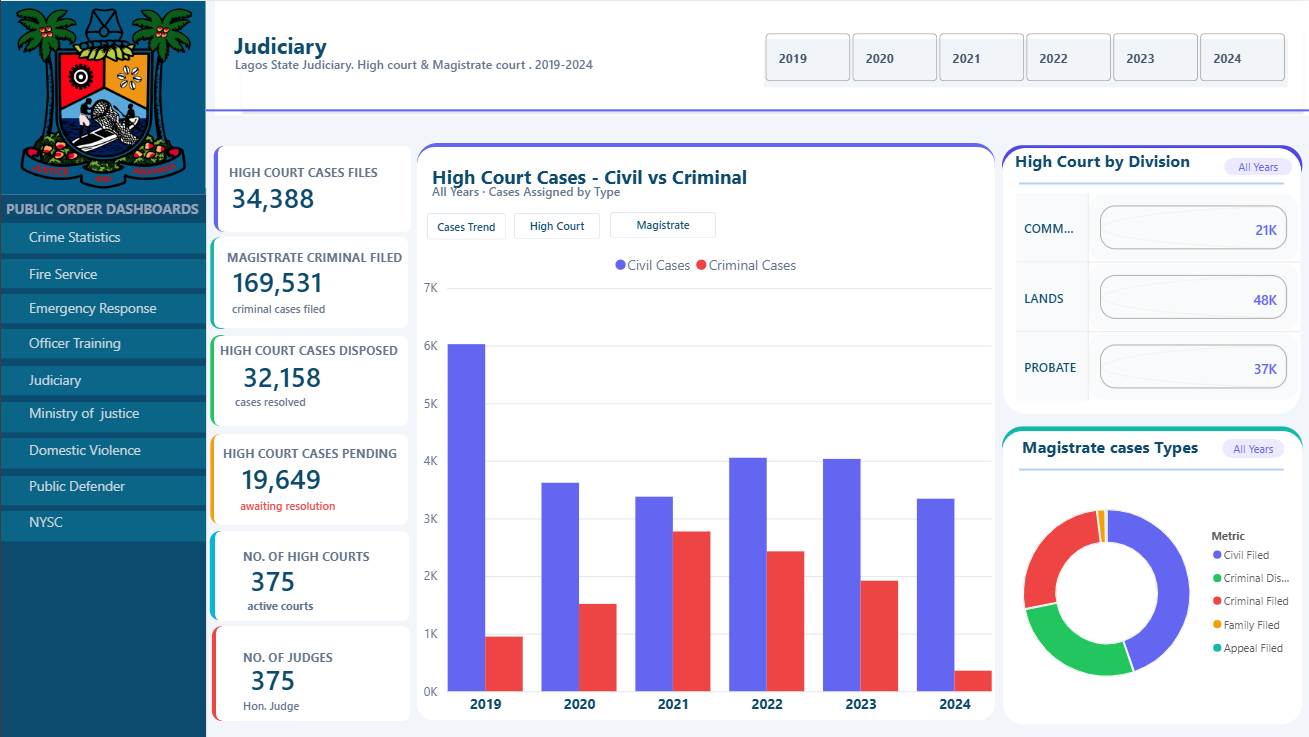

This screenshot's page, from the dashboard's own definition file:
{"tool":"powerbi","page":{"name":"Judiciary","canvas":[1280,720],"ordinal":4},"visuals":[{"type":"shape","box":[95,611.6,242.8,93],"z":0},{"type":"shape","box":[407.1,99.6,565.3,118.2],"z":1000},{"type":"shape","box":[0,182.7,200.6,537.3],"z":2000},{"type":"shape","box":[0,499.1,200.6,29.9],"z":3000},{"type":"shape","box":[0,464.5,200.6,28.7],"z":4000},{"type":"shape","box":[0,427.5,200.6,29.9],"z":5000},{"type":"shape","box":[0,391.6,200.6,29.9],"z":6000},{"type":"shape","box":[0,357,200.6,28.7],"z":7000},{"type":"shape","box":[0,321.2,200.6,28.7],"z":8000},{"type":"shape","box":[0,286.6,200.6,28.7],"z":9000},{"type":"shape","box":[0,251.9,200.6,28.7],"z":10000},{"type":"shape","box":[0,217.3,200.6,29.9],"z":11000},{"type":"shape","box":[94.2,518.6,240.6,87.4],"z":12000},{"type":"shape","box":[209.3,518.3,189.7,88],"z":13000},{"type":"textbox","box":[211.8,0,373,70.6],"z":14000},{"type":"shape","box":[94.2,423.3,241.7,88.5],"z":15000},{"type":"shape","box":[208.3,423.4,189.7,89],"z":16000},{"type":"shape","box":[93.9,326.6,241.5,89],"z":17000},{"type":"shape","box":[208.3,327.6,189.7,88],"z":18000},{"type":"shape","box":[93.9,230.8,241.5,90],"z":19000},{"type":"shape","box":[208.3,230.8,189.7,89],"z":20000},{"type":"shape","box":[97.6,141.8,240.6,84],"z":21000},{"type":"shape","box":[212.2,141.8,188.7,84.1],"z":22000},{"type":"shape","box":[979.3,398.3,293.9,76],"z":23000},{"type":"shape","box":[209.2,0,1071,112.2],"z":24000},{"type":"shape","box":[0,0,200,189.3],"z":25000},{"type":"shape","box":[740.6,31.4,524.3,59.3],"z":26000},{"type":"advancedSlicerVisual","fields":{"Values":["YearTable.Year"]},"box":[727.5,23.5,552.5,63.6],"z":27000},{"type":"shape","box":[978.8,420.5,294.3,287.5],"z":28000},{"type":"shape","box":[407.1,143.1,565.3,560.9],"z":29000},{"type":"shape","box":[979.1,111,293.7,99.1],"z":30000},{"type":"shape","box":[979.3,144.1,292.8,261],"z":31000},{"type":"textbox","box":[218.1,153.5,179.9,35.2],"z":32000},{"type":"card","fields":{"Values":["Judiciary_Hc_summary.HC Civil Cases Filed"]},"box":[218.5,166,95.5,53.7],"z":33000},{"type":"donutChart","fields":{"Category":["Judiciary_MC summary.Metric"],"Y":["Sum(Judiciary_MC summary.Value)"]},"box":[979.3,458.4,292.8,239.4],"z":35000},{"type":"shape","box":[995.2,415.3,258.7,85.1],"z":36000},{"type":"shape","box":[995.4,131,259.1,94.9],"z":37000},{"type":"textbox","box":[993.5,420.4,191.9,36.5],"z":38000},{"type":"textbox","box":[986.7,140.6,198.7,48.7],"z":39000},{"type":"textbox","box":[223.5,47.7,377.9,52.2],"z":40000},{"type":"textbox","box":[211.1,23.8,123.7,49.9],"z":46000},{"type":"textbox","box":[0,189.7,208.3,39.1],"z":47000},{"type":"textbox","box":[22.7,217.3,125.4,29.9],"z":48000},{"type":"textbox","box":[22.7,253.1,115.8,27.5],"z":49000},{"type":"textbox","box":[22.7,286.6,146.9,28.7],"z":50000},{"type":"textbox","box":[22.7,321.2,146.9,28.7],"z":51000},{"type":"textbox","box":[22.7,357,132.5,28.7],"z":52000},{"type":"textbox","box":[22.7,389.3,132.5,34.6],"z":53000},{"type":"textbox","box":[22.7,425.1,132.5,34.6],"z":54000},{"type":"textbox","box":[22.7,460.9,132.5,32.2],"z":55000},{"type":"textbox","box":[22.7,495.5,115.8,33.4],"z":56000},{"type":"textbox","box":[216.1,236.6,183.8,30.3],"z":57000},{"type":"card","fields":{"Values":["Judiciary_MC summary.Magistrate Cases Filed"]},"box":[219,248.4,102.7,53.8],"z":58000},{"type":"textbox","box":[209.3,327.6,232.7,29.3],"z":59000},{"type":"card","fields":{"Values":["Judiciary_Hc_summary.HC Cases Disposed"]},"box":[223.9,341.3,101.7,53.8],"z":60000},{"type":"textbox","box":[212.2,428.3,204.4,29.3],"z":61000},{"type":"card","fields":{"Values":["Judiciary_Hc_summary.HC Cases Pending"]},"box":[222.9,441,102.7,53.8],"z":62000},{"type":"shape","box":[210.2,611.2,189.7,92.9],"z":63000},{"type":"card","fields":{"Values":["Judiciary_infrastructure.No of High Courts"]},"box":[222.9,540.7,86.1,53.8],"z":64000},{"type":"card","fields":{"Values":["Judiciary_infrastructure.No of Judges"]},"box":[222.9,637.6,86.1,53.8],"z":65000},{"type":"textbox","box":[231.5,528.8,155.5,32.9],"z":66000},{"type":"textbox","box":[231.5,627.5,167.9,30.6],"z":67000},{"type":"textbox","box":[221,286.5,117.3,28.4],"z":68000},{"type":"textbox","box":[223.9,377.4,111.5,29.3],"z":69000},{"type":"textbox","box":[210.8,479.4,138.4,33.1],"z":70000},{"type":"textbox","box":[223.9,576.9,101.7,29.3],"z":71000},{"type":"textbox","box":[231.7,674.7,78.2,29.3],"z":72000},{"type":"shape","box":[200.9,61.3,1079.1,90.7],"z":73000},{"type":"clusteredColumnChart","fields":{"Category":["YearTable.Year"],"Y":["Judiciary_Hc_summary.Civil Cases","Judiciary_Hc_summary.Criminal Cases"]},"box":[407.4,237.2,566.2,468.7],"z":77000},{"type":"textbox","box":[416.5,153.2,460.7,36.3],"z":78000},{"type":"textbox","box":[416.5,178.2,291.6,69.2],"z":79000},{"type":"cardVisual","fields":{"Data":["Sum(Judiciary_HC_Division.Value)"],"Rows":["Judiciary_HC_Division.Division"]},"box":[987.2,182.7,287.1,215.6],"z":83000},{"type":"shape","title":"v","box":[416.5,207.7,77.2,26.1],"z":84000},{"type":"shape","title":"v","box":[501.6,207.3,84.1,25.4],"z":85000},{"type":"shape","title":"v","box":[595.5,206.3,103.7,25.4],"z":86000},{"type":"shape","box":[1193.8,428.4,61.3,18.7],"z":87000},{"type":"shape","box":[1196,153.2,67,17],"z":88000},{"type":"image","box":[0,0,200.5,189.7],"z":89000}]}

Visuals, with their boxes on the page's 1280x720 design canvas (x1, y1, x2, y2). These are canvas units, not pixel positions in the 1309x737 screenshot, which may show the page scaled, cropped or inside an application window:
shape: (95,612,338,705)
shape: (407,100,972,218)
shape: (0,183,201,720)
shape: (0,499,201,529)
shape: (0,464,201,493)
shape: (0,428,201,457)
shape: (0,392,201,422)
shape: (0,357,201,386)
shape: (0,321,201,350)
shape: (0,287,201,315)
shape: (0,252,201,281)
shape: (0,217,201,247)
shape: (94,519,335,606)
shape: (209,518,399,606)
textbox: (212,0,585,71)
shape: (94,423,336,512)
shape: (208,423,398,512)
shape: (94,327,335,416)
shape: (208,328,398,416)
shape: (94,231,335,321)
shape: (208,231,398,320)
shape: (98,142,338,226)
shape: (212,142,401,226)
shape: (979,398,1273,474)
shape: (209,0,1280,112)
shape: (0,0,200,189)
shape: (741,31,1265,91)
advancedSlicerVisual - YearTable.Year: (728,24,1280,87)
shape: (979,420,1273,708)
shape: (407,143,972,704)
shape: (979,111,1273,210)
shape: (979,144,1272,405)
textbox: (218,154,398,189)
card - Judiciary_Hc_summary.HC Civil Cases Filed: (218,166,314,220)
donutChart - Judiciary_MC summary.Metric x Sum(Judiciary_MC summary.Value): (979,458,1272,698)
shape: (995,415,1254,500)
shape: (995,131,1254,226)
textbox: (994,420,1185,457)
textbox: (987,141,1185,189)
textbox: (224,48,601,100)
textbox: (211,24,335,74)
textbox: (0,190,208,229)
textbox: (23,217,148,247)
textbox: (23,253,138,281)
textbox: (23,287,170,315)
textbox: (23,321,170,350)
textbox: (23,357,155,386)
textbox: (23,389,155,424)
textbox: (23,425,155,460)
textbox: (23,461,155,493)
textbox: (23,496,138,529)
textbox: (216,237,400,267)
card - Judiciary_MC summary.Magistrate Cases Filed: (219,248,322,302)
textbox: (209,328,442,357)
card - Judiciary_Hc_summary.HC Cases Disposed: (224,341,326,395)
textbox: (212,428,417,458)
card - Judiciary_Hc_summary.HC Cases Pending: (223,441,326,495)
shape: (210,611,400,704)
card - Judiciary_infrastructure.No of High Courts: (223,541,309,594)
card - Judiciary_infrastructure.No of Judges: (223,638,309,691)
textbox: (232,529,387,562)
textbox: (232,628,399,658)
textbox: (221,286,338,315)
textbox: (224,377,335,407)
textbox: (211,479,349,512)
textbox: (224,577,326,606)
textbox: (232,675,310,704)
shape: (201,61,1280,152)
clusteredColumnChart - YearTable.Year x Judiciary_Hc_summary.Civil Cases: (407,237,974,706)
textbox: (416,153,877,190)
textbox: (416,178,708,247)
cardVisual - Sum(Judiciary_HC_Division.Value) x Judiciary_HC_Division.Division: (987,183,1274,398)
"v" shape: (416,208,494,234)
"v" shape: (502,207,586,233)
"v" shape: (596,206,699,232)
shape: (1194,428,1255,447)
shape: (1196,153,1263,170)
image: (0,0,200,190)
